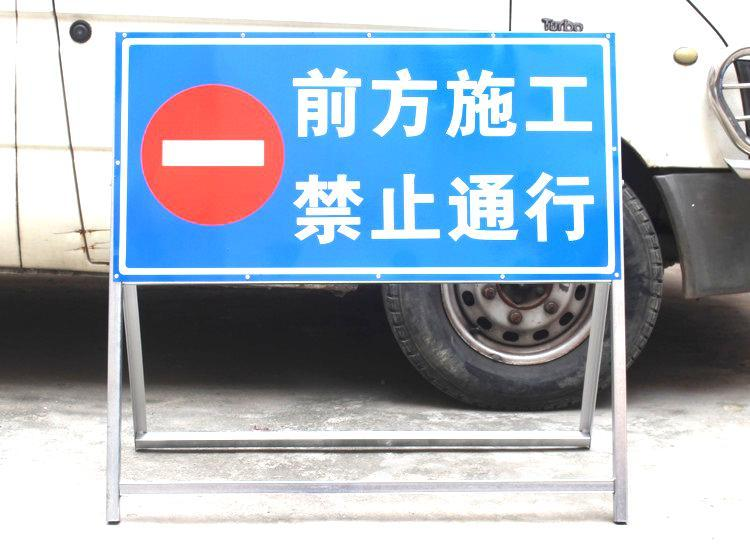sign: (114, 31, 625, 281)
